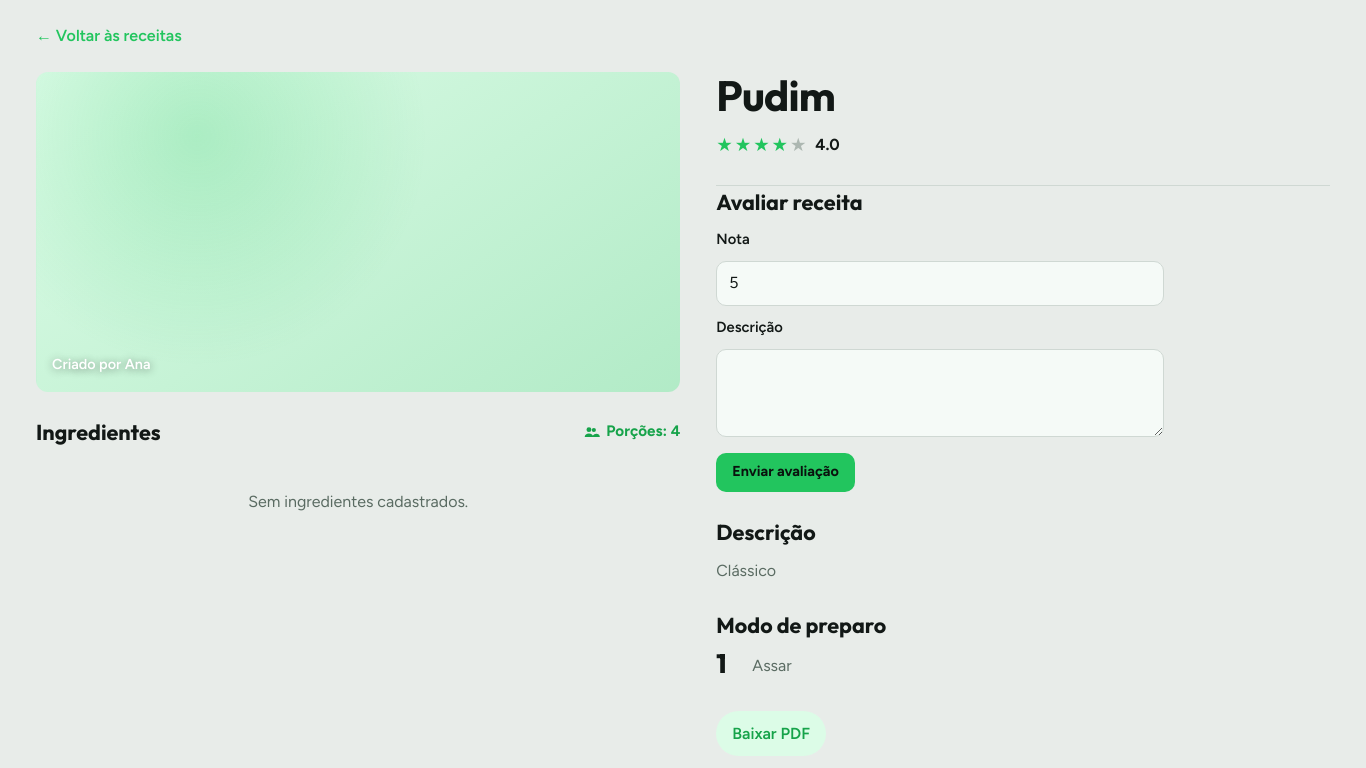
Scenario: FN-UI-TASTER — avaliação no detalhe público › AC-02: TASTER cria review via POST /reviews e entra em modo minha review
Expected: the heading "Pudim" is shown, left=716, top=69, right=835, bottom=122
Expected: the text "minha avaliação" is not shown
Replace the text in the number field labelled "Nota" with "4" at (940, 283), box left=716, top=261, right=1164, bottom=306
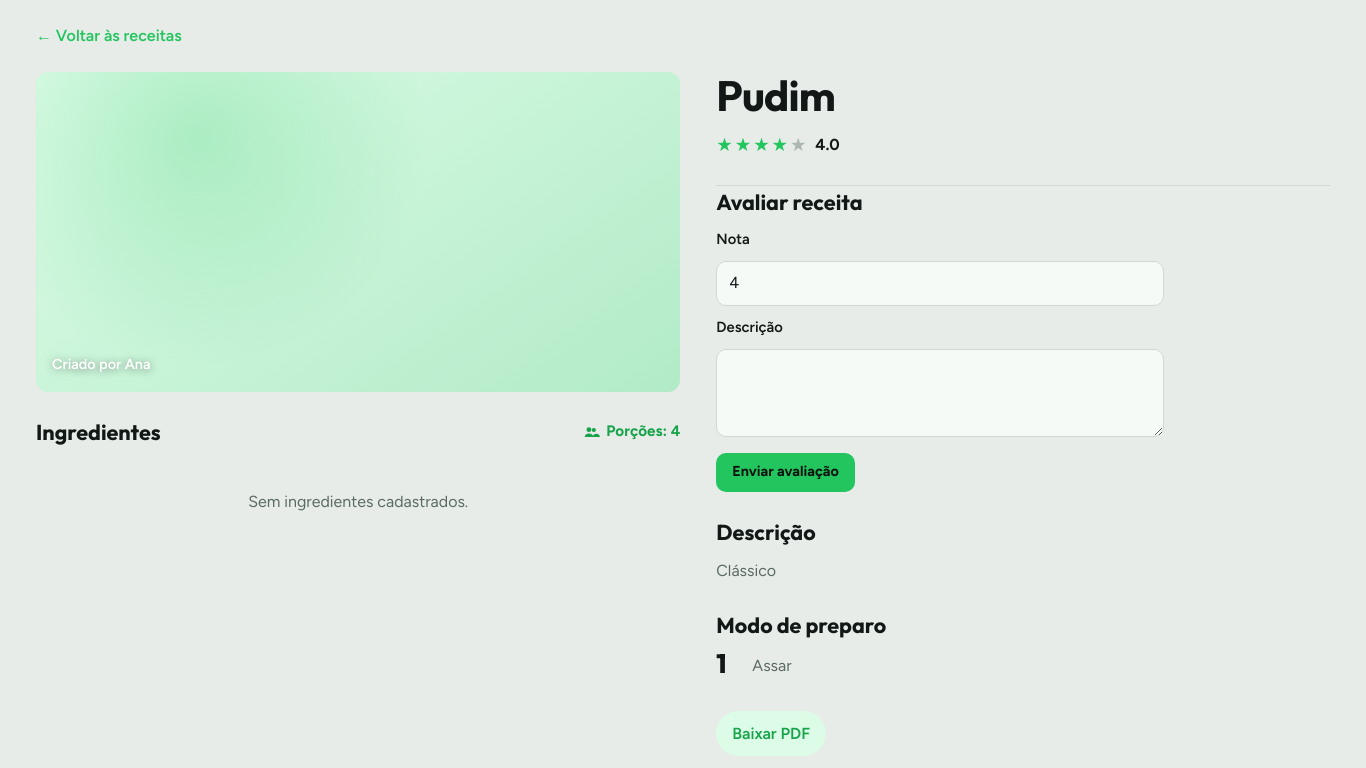
Type "Ficou ótimo" into the text box labelled "Descrição".
click(940, 393); type("Ficou ótimo")  # box left=716, top=349, right=1164, bottom=437
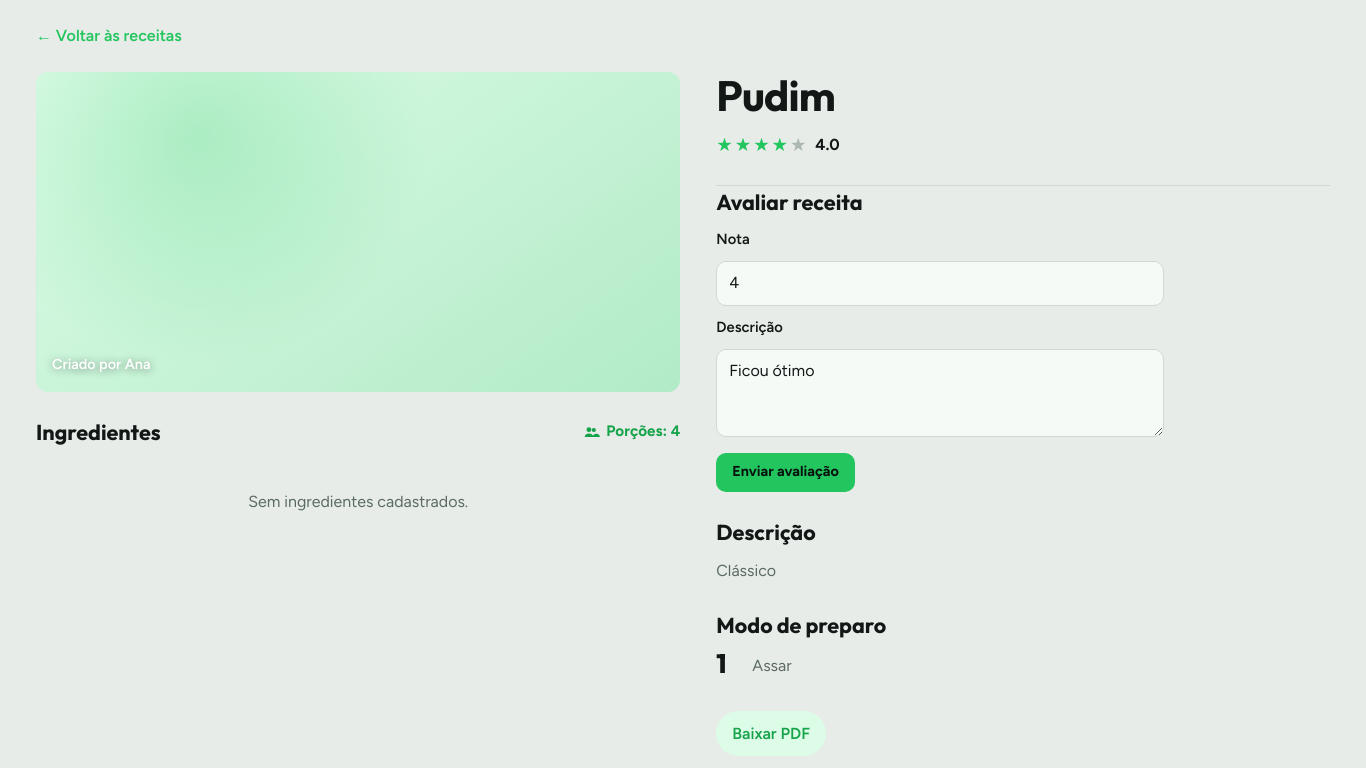
Click the button "Enviar avaliação".
click(786, 472)  # box left=716, top=453, right=855, bottom=492
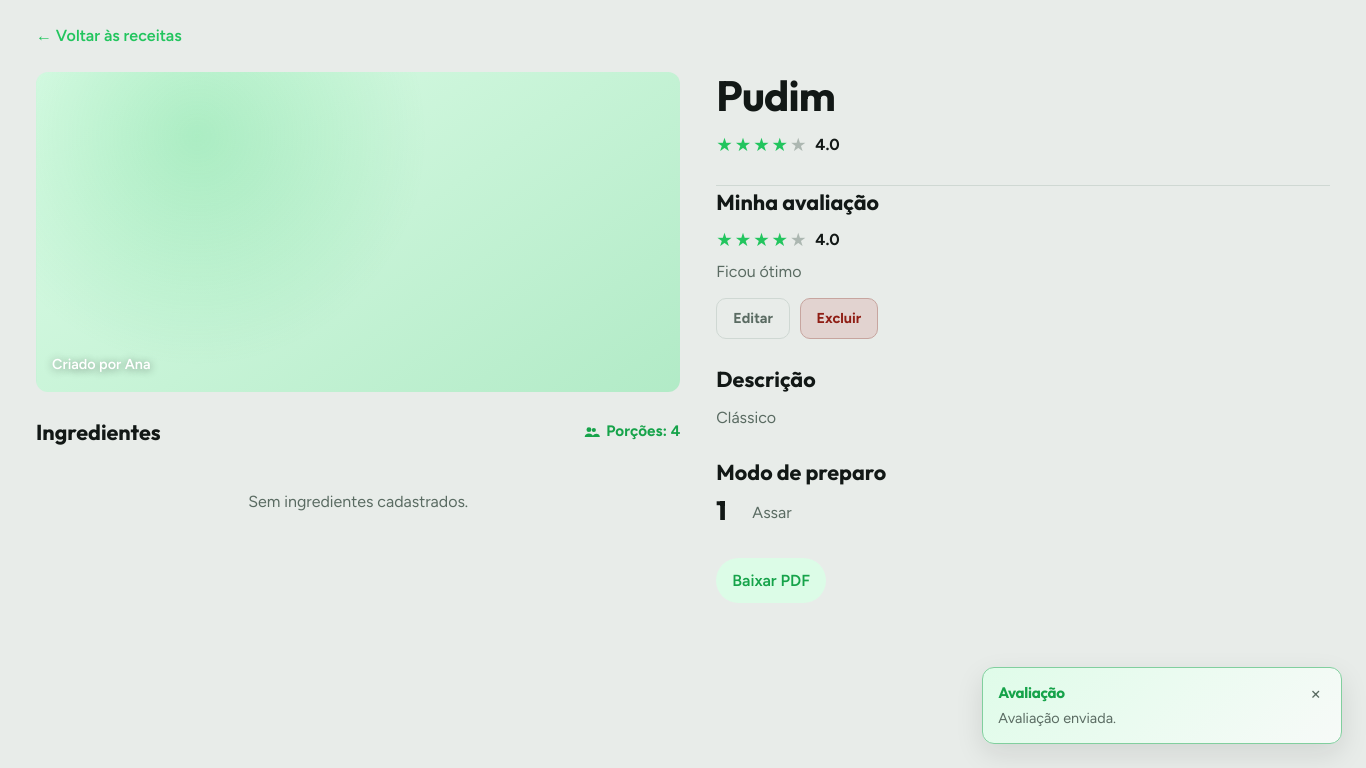
Expected: the heading "Minha avaliação" is shown, left=716, top=188, right=879, bottom=216
Expected: the button "Editar" is shown, left=716, top=298, right=790, bottom=339
Expected: the button "Excluir" is shown, left=800, top=298, right=878, bottom=339
